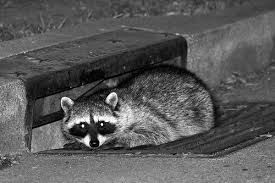raccoon: (41, 60, 223, 155)
